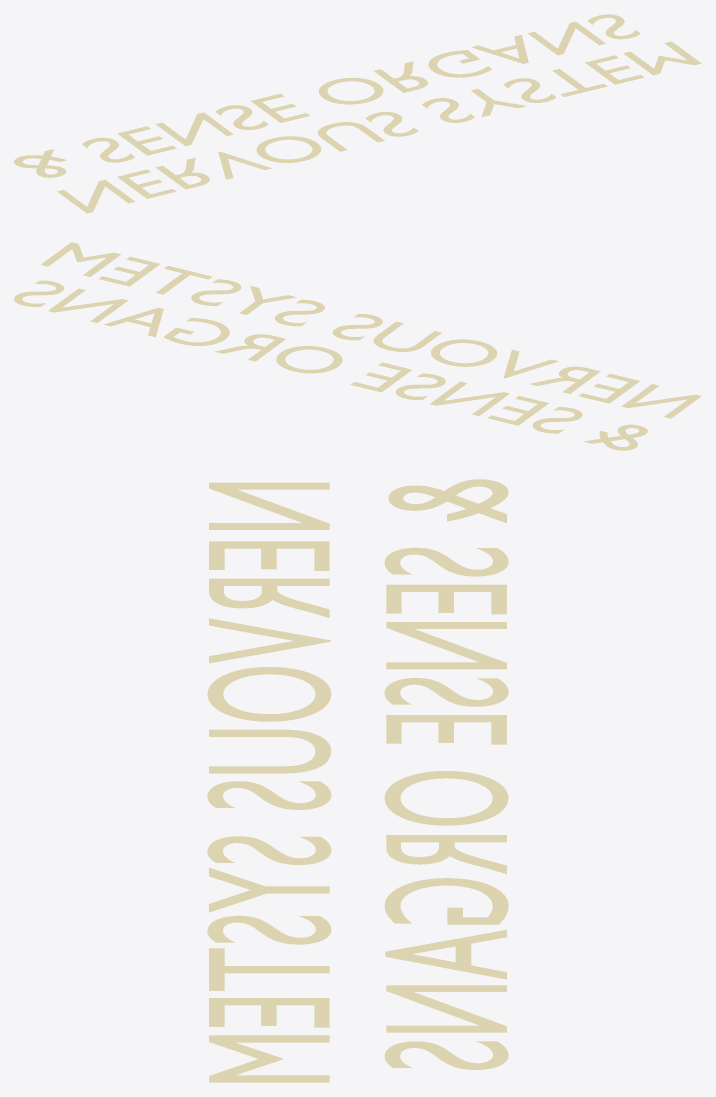
File: upperlimb__nervous.66b95bc42d.glb
3 renders of one model, top to bottom at view 1: azimuth 30°, elevation 25°; view 2: azimuth 150°, elevation 25°; view 3: azimuth 270°, elevation 25°, orthographic. The views are drawn at different scales.
Parts seen in each view (by area): view 1: Nervous system & Sense organs.g; view 2: Nervous system & Sense organs.g; view 3: Nervous system & Sense organs.g.
Boxes of the visible parts, <box> form: Nervous system & Sense organs.g: <box>14,14,701,213</box>; Nervous system & Sense organs.g: <box>14,242,701,450</box>; Nervous system & Sense organs.g: <box>207,479,508,1082</box>.
Size of the model in its own units: 390 by 0 by 82.3.
